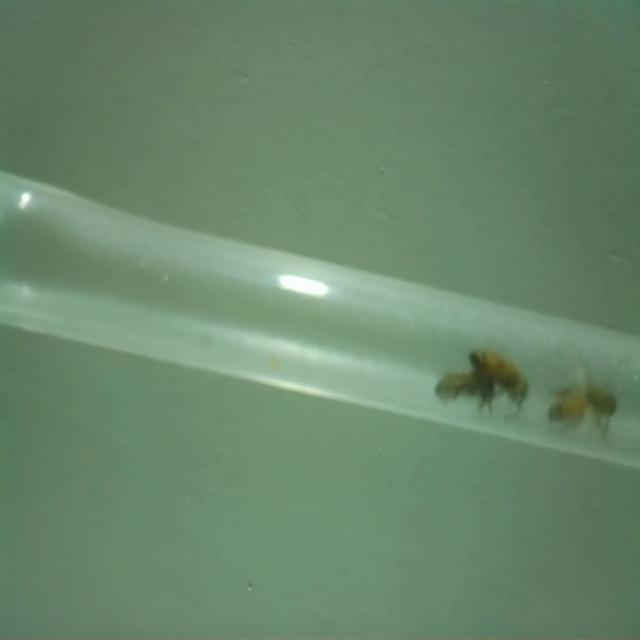Honeybee-Detection: (547, 369, 618, 442), (469, 347, 529, 417), (435, 367, 495, 413)
